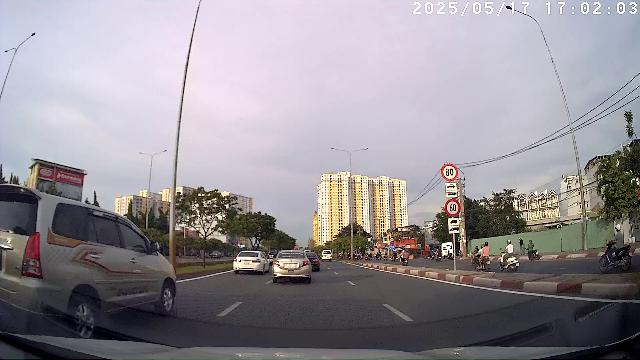127-toc-do-toi-da-60: (444, 199, 461, 217)
127-toc-do-toi-da-80: (441, 163, 458, 181)
